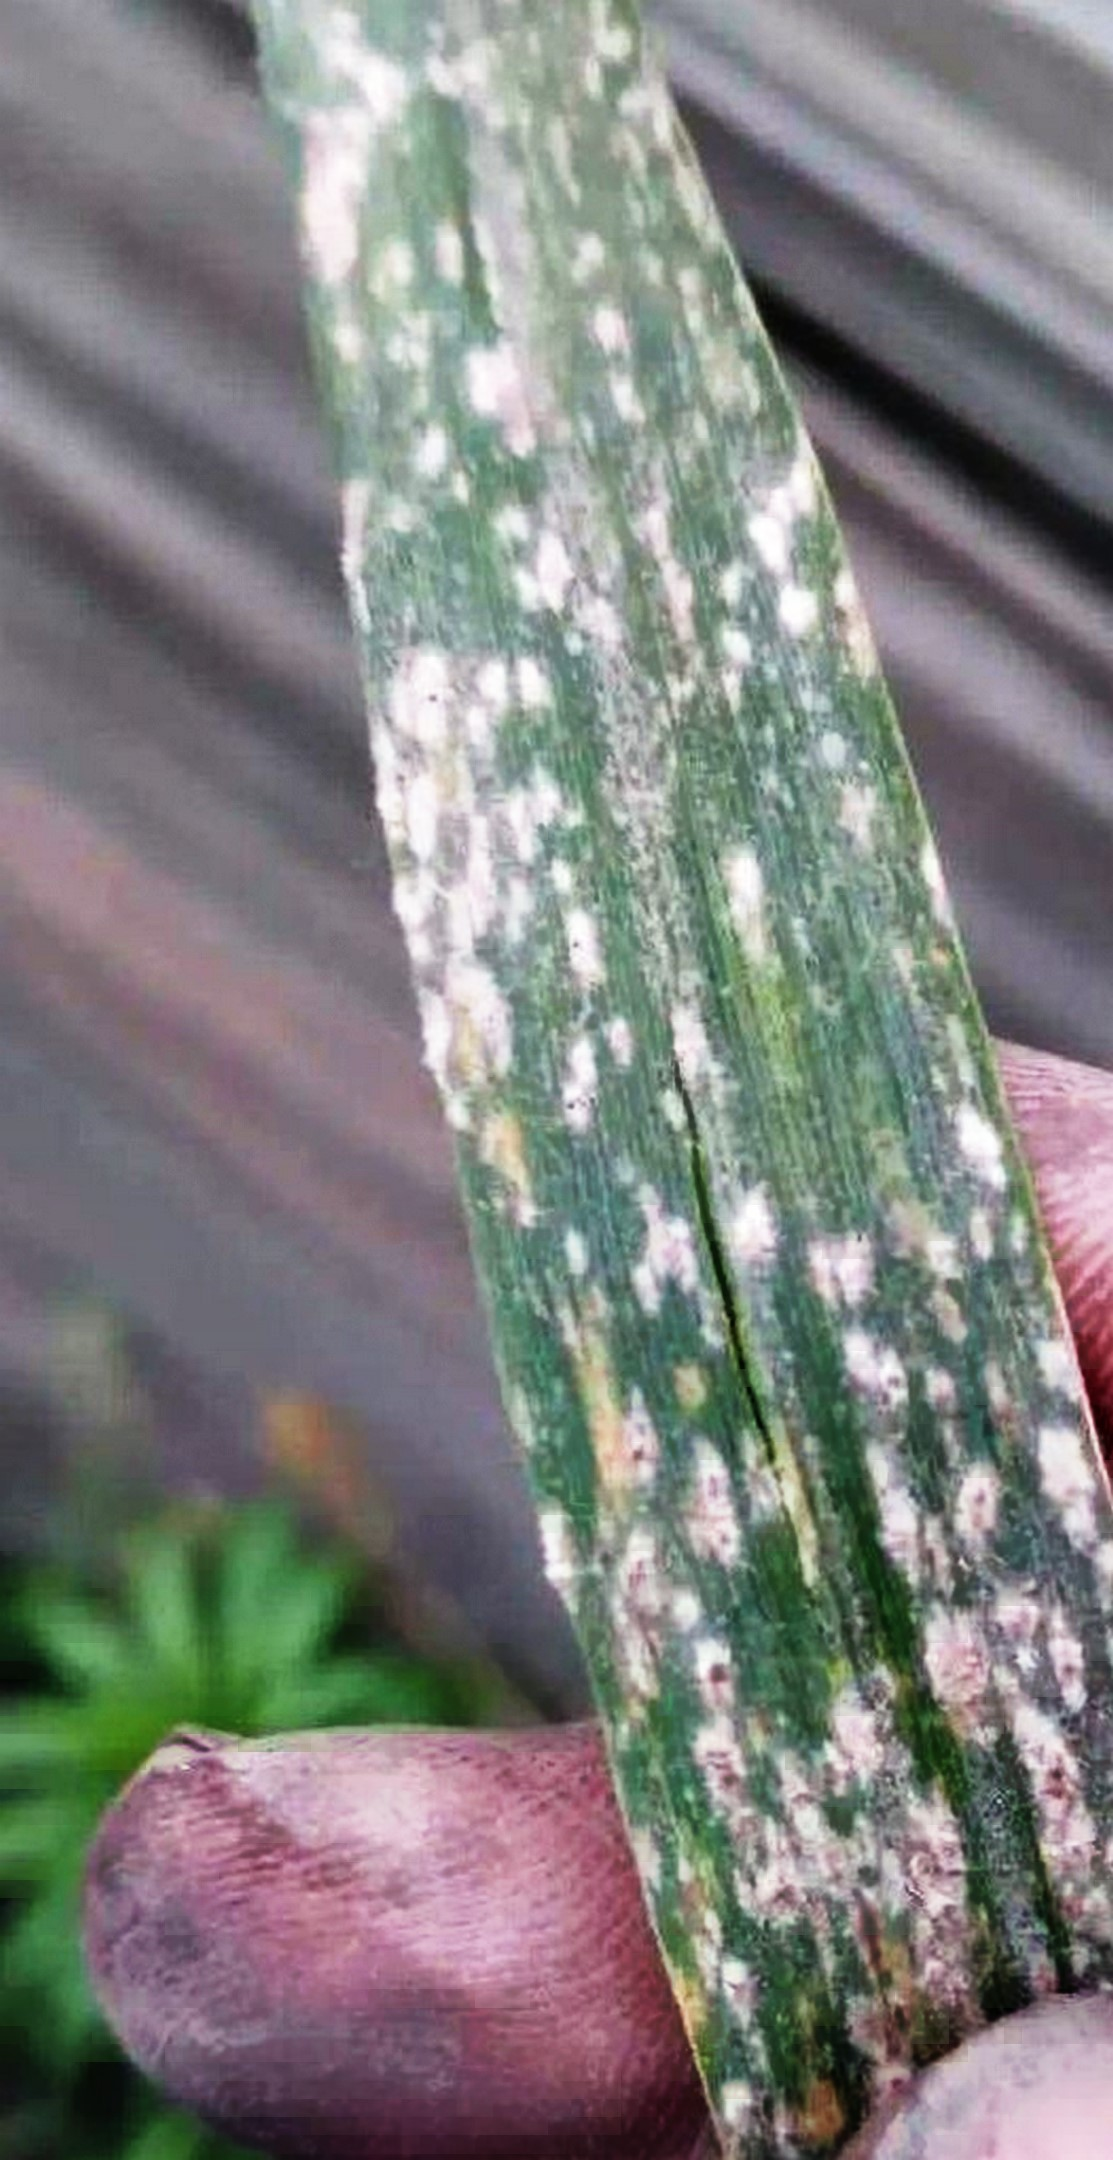Powdery Mildew: (294, 204, 1113, 1932)
